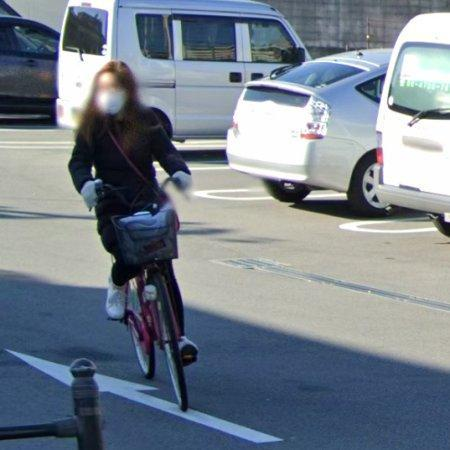bicycles: (97, 179, 188, 410)
